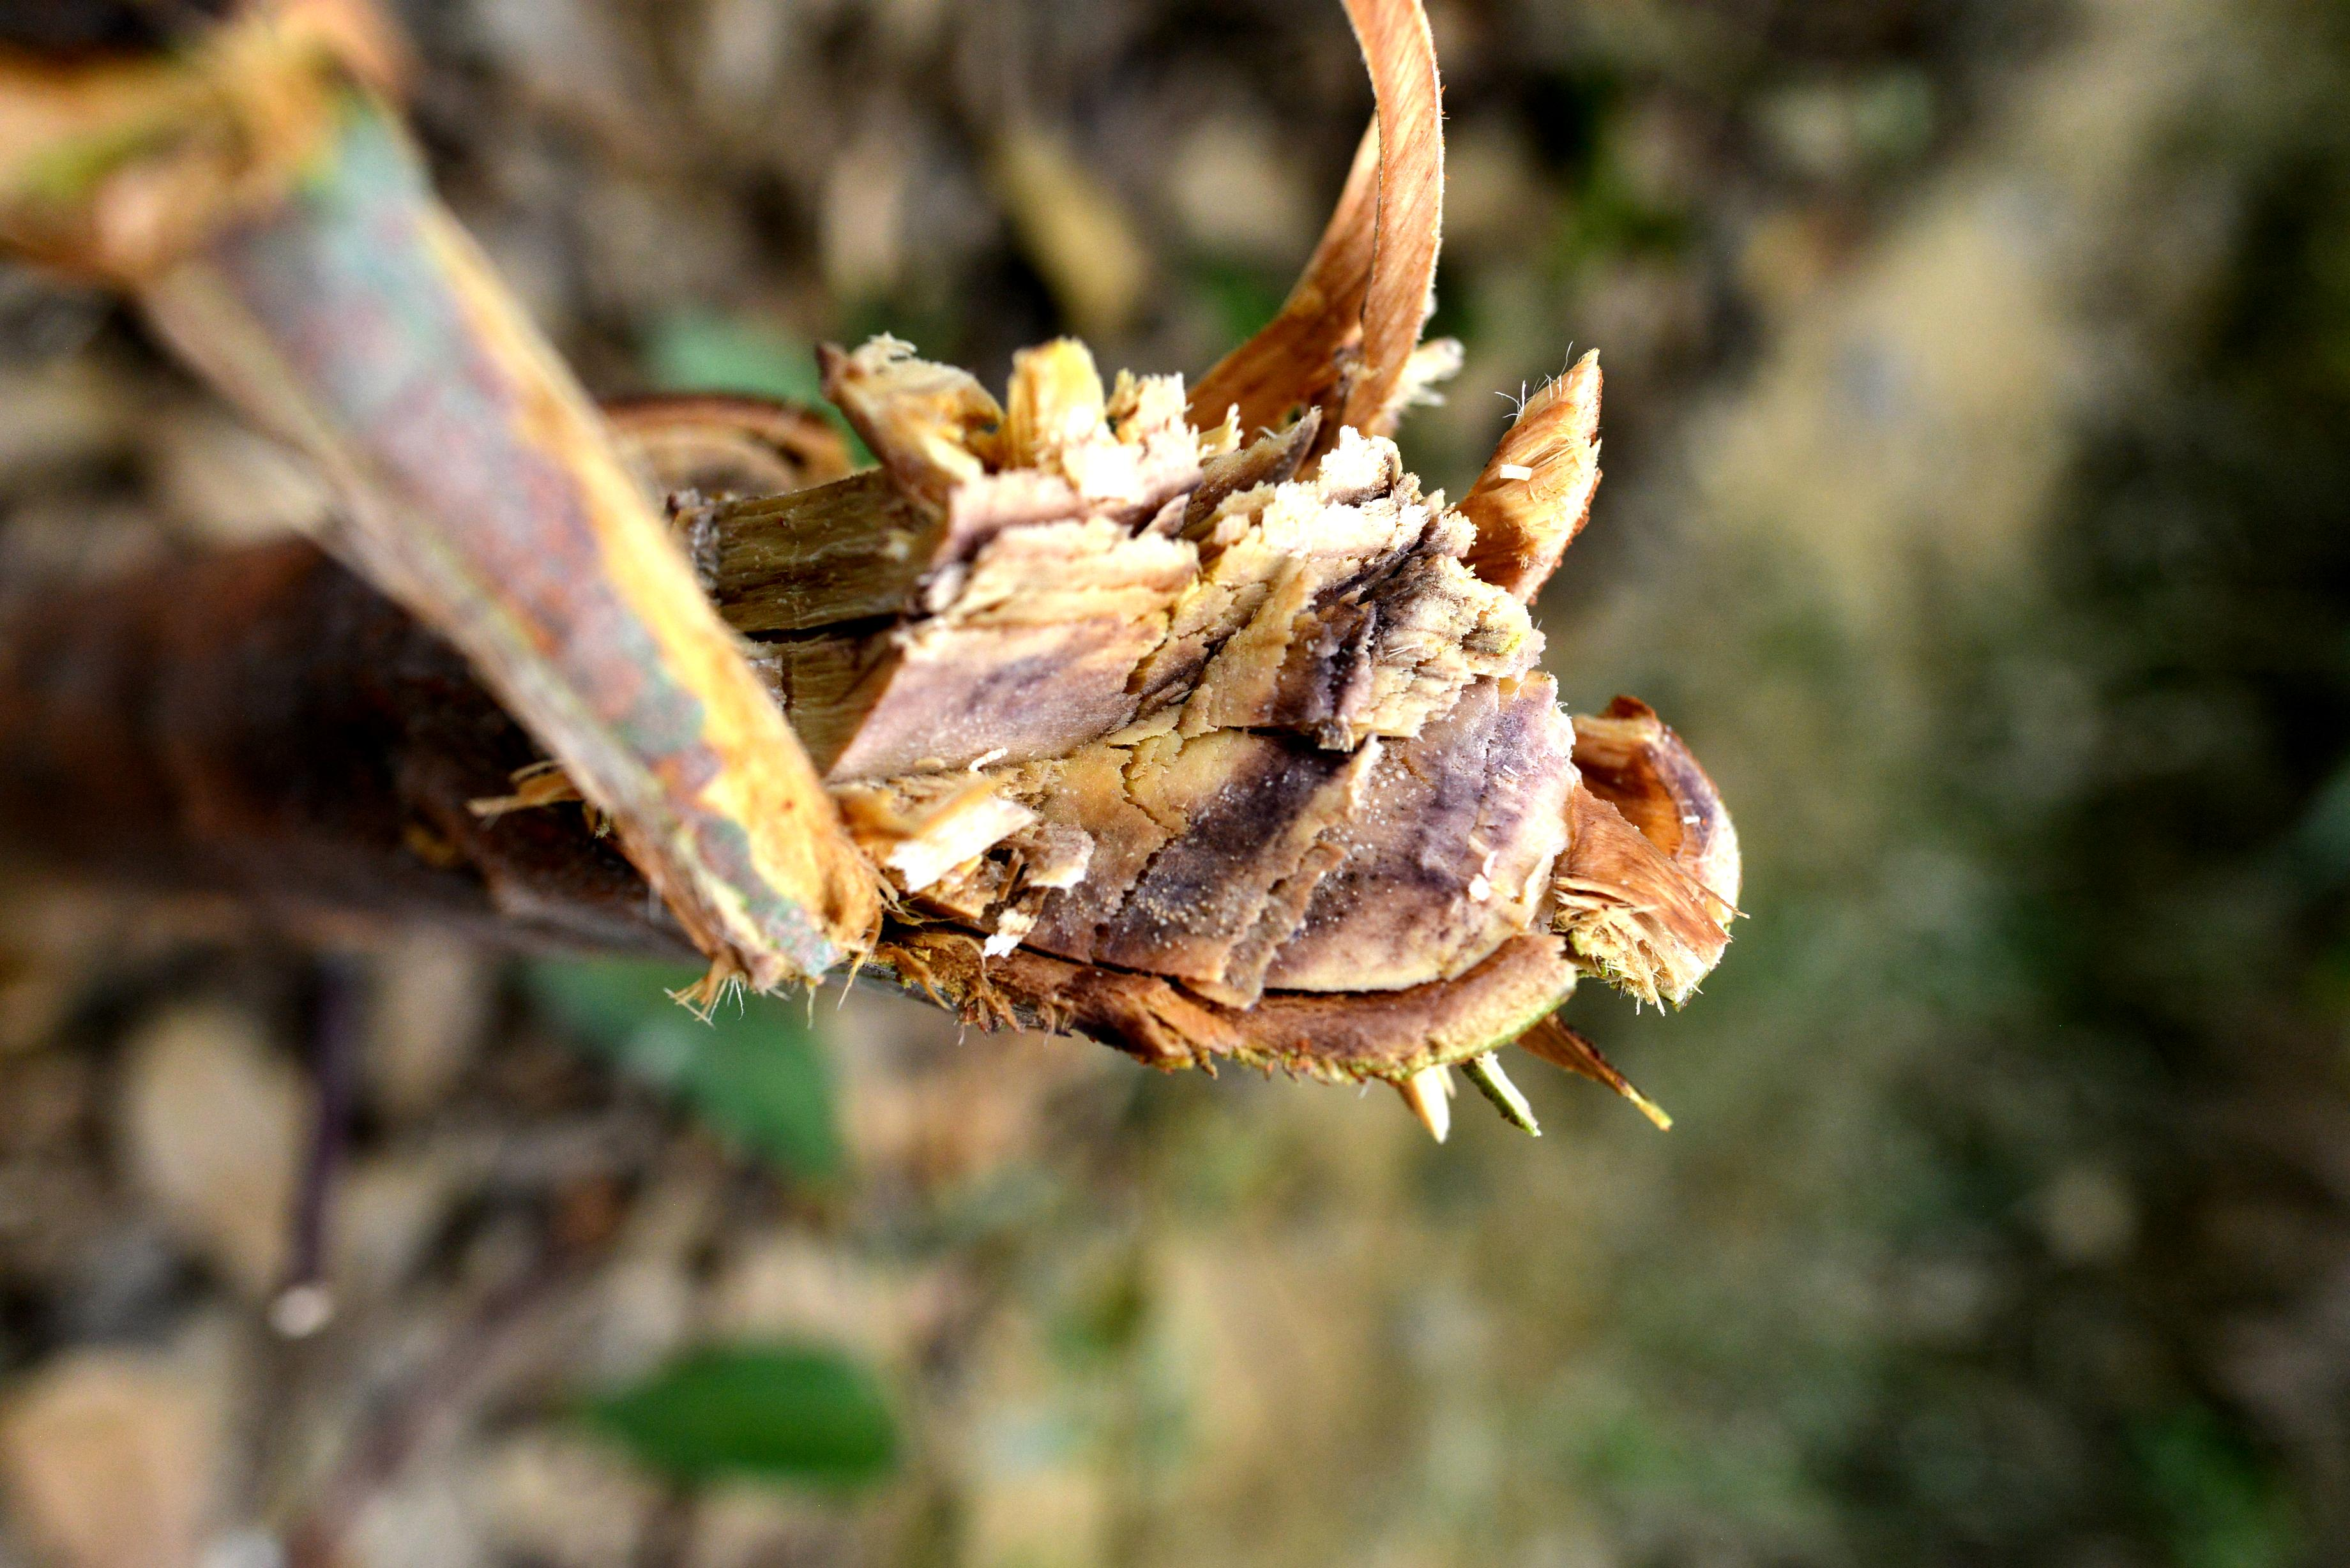Ralstonia: (1277, 504, 1468, 976), (896, 619, 1123, 770), (1036, 836, 1246, 968), (1487, 654, 1564, 875), (1633, 717, 1736, 866)
